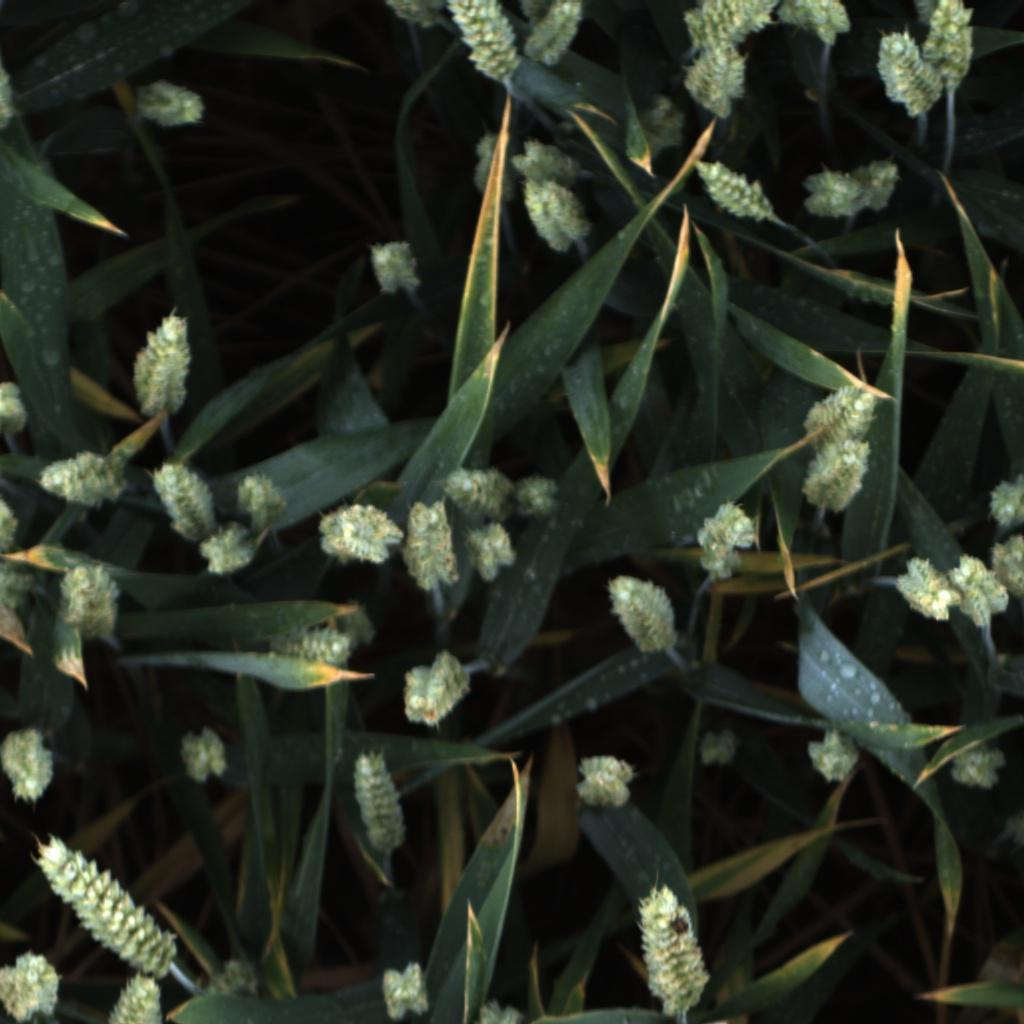0-0: (20, 833, 186, 980), (632, 881, 710, 1015), (601, 567, 688, 659), (131, 310, 201, 416), (447, 0, 525, 94), (150, 454, 223, 549), (872, 29, 945, 119), (517, 174, 597, 256), (349, 748, 409, 857), (688, 155, 777, 227), (396, 494, 462, 590), (796, 436, 873, 515), (397, 648, 470, 730), (692, 494, 760, 582), (53, 558, 126, 639), (317, 499, 398, 567), (0, 721, 63, 808), (674, 0, 781, 51), (679, 43, 747, 122), (34, 448, 122, 509), (947, 550, 1011, 632), (920, 0, 975, 93), (802, 376, 883, 437), (0, 948, 63, 1024), (129, 76, 211, 134), (508, 136, 594, 191), (526, 1, 590, 74), (443, 459, 517, 519), (569, 748, 637, 813), (264, 624, 355, 672), (896, 556, 962, 622), (362, 235, 429, 298), (471, 127, 522, 206), (174, 721, 238, 783), (799, 166, 869, 222), (96, 974, 171, 1024), (974, 456, 1024, 528), (631, 94, 685, 160), (230, 470, 289, 530), (466, 521, 524, 582), (195, 525, 258, 581), (805, 726, 862, 785), (381, 959, 434, 1022), (948, 744, 1012, 795), (511, 470, 568, 525), (848, 158, 903, 214), (985, 526, 1024, 603), (200, 956, 260, 1001), (330, 599, 378, 649), (692, 727, 744, 773), (0, 378, 36, 439), (808, 0, 853, 48), (382, 0, 448, 32), (3, 562, 42, 616), (467, 995, 525, 1024), (776, 0, 819, 33), (0, 61, 19, 131), (0, 498, 22, 557), (914, 0, 943, 30)
